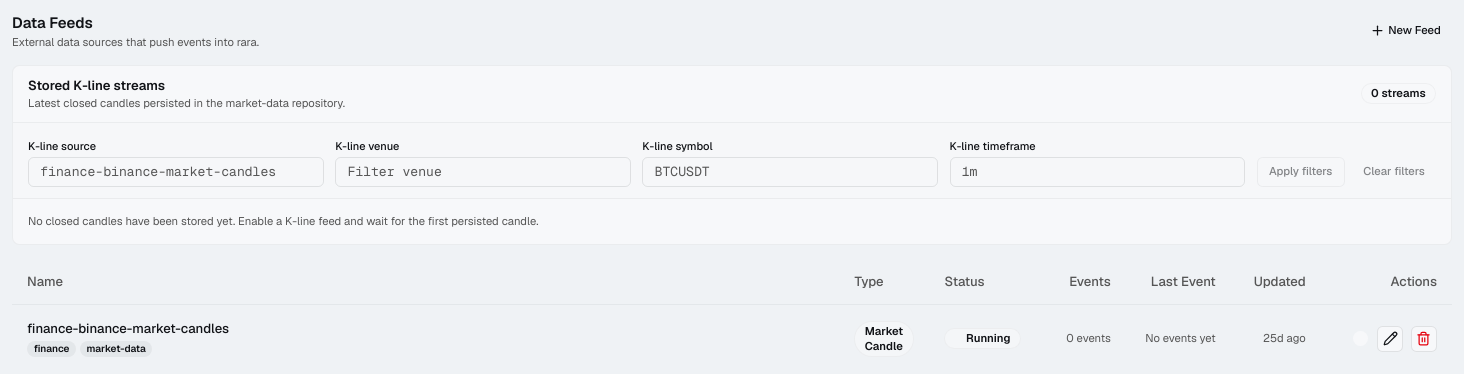
DataFeedsPanel › shows a compact K-line summary in feed history rows
Click the button "finance-binance-market-candles": (128, 330) [27, 320, 229, 339]
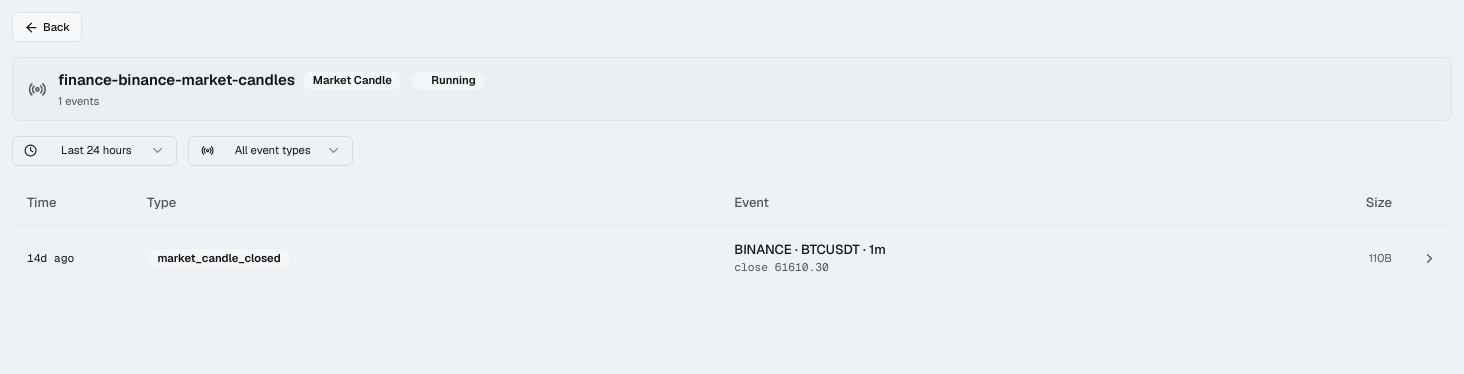
Now the text "BINANCE · BTCUSDT · 1m" is shown, box [734, 241, 886, 258]
Now the text "close 61610.30" is shown, box [734, 260, 829, 274]
